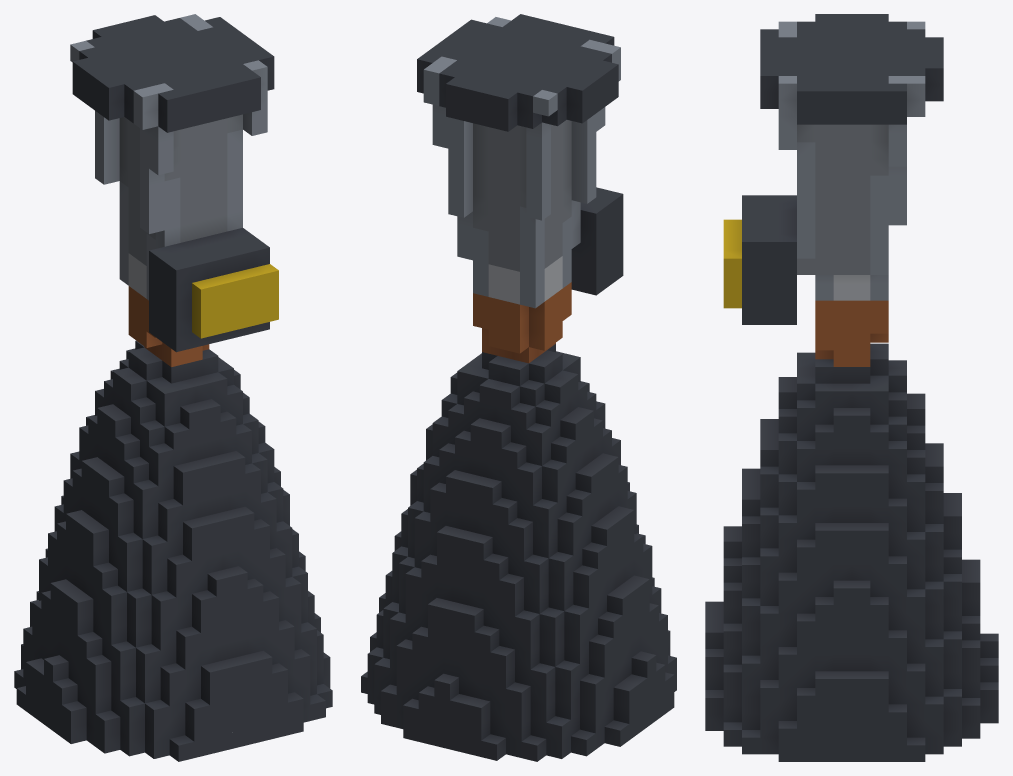
Rendered from eng_kestrel_v.glb.
3 renders of one model, left to right at view 1: azimuth 30°, elevation 25°; view 2: azimuth 150°, elevation 25°; view 3: azimuth 270°, elevation 25°, orthographic.
Visible parts, largest first — view 1: eng_kestrel_v; view 2: eng_kestrel_v; view 3: eng_kestrel_v.
Boxes of the visible parts, box(x1,y1,x2,y2) form: eng_kestrel_v: box(14, 14, 332, 761); eng_kestrel_v: box(361, 14, 676, 761); eng_kestrel_v: box(705, 14, 998, 761).
Size of the model in its own units: 0.8 by 1.95 by 0.8.
